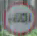Heavy Vehicles: (3, 1, 35, 35)
